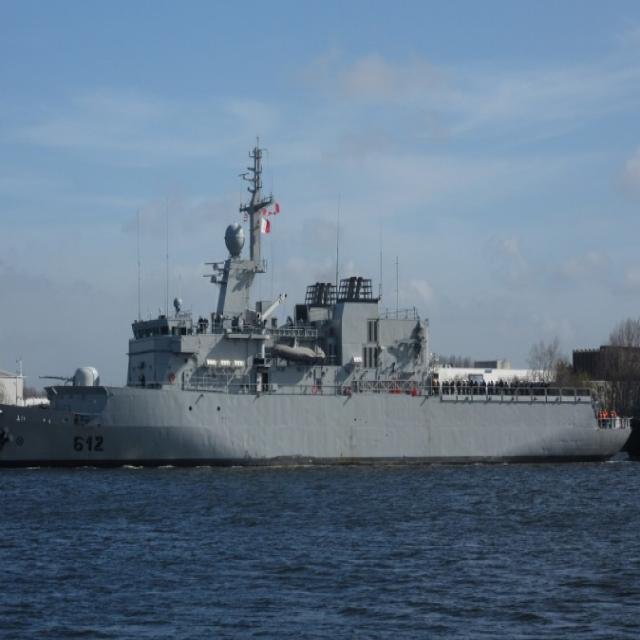Fragata: (1, 137, 638, 477)
